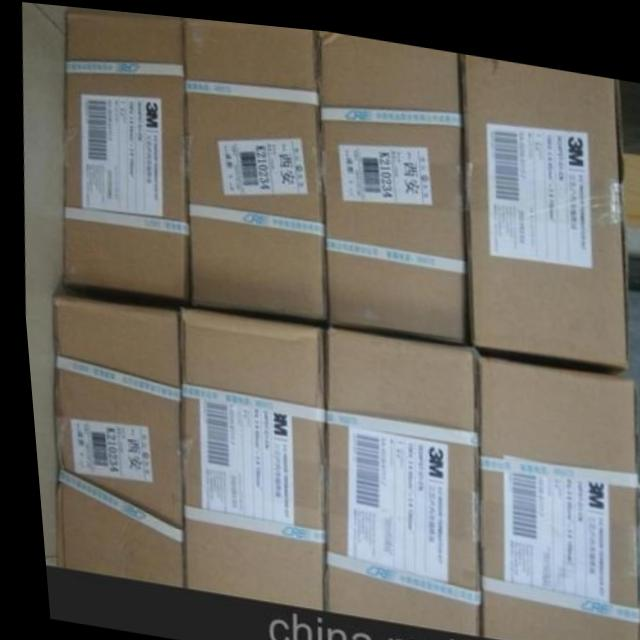box: (457, 44, 622, 357), (470, 347, 630, 640), (315, 323, 468, 628), (320, 27, 462, 333), (177, 304, 315, 605), (184, 14, 319, 316), (49, 291, 173, 583), (63, 14, 186, 304), (630, 587, 640, 640)
